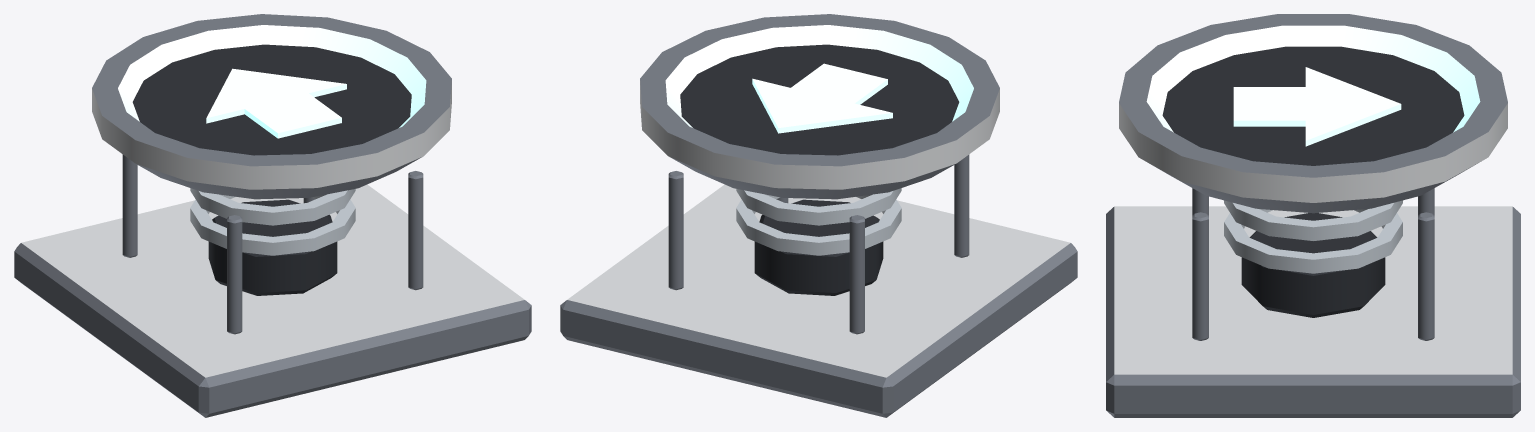
File: R4X_JumpPadDeployer_LOD1.fbx
3 renders of one model, left to right at view 1: azimuth 30°, elevation 25°; view 2: azimuth 150°, elevation 25°; view 3: azimuth 270°, elevation 25°, orthographic. The views are drawn at different scales.
Visible parts, largest first — view 1: R4X_JumpPadDeployer_LOD1; view 2: R4X_JumpPadDeployer_LOD1; view 3: R4X_JumpPadDeployer_LOD1.
Boxes of the visible parts, x1,y1,x2,y2 form: R4X_JumpPadDeployer_LOD1: [14, 14, 531, 417]; R4X_JumpPadDeployer_LOD1: [560, 14, 1077, 417]; R4X_JumpPadDeployer_LOD1: [1106, 14, 1520, 417].
Bounding box in the file's own units: 0.52 × 0.33 × 0.52.
